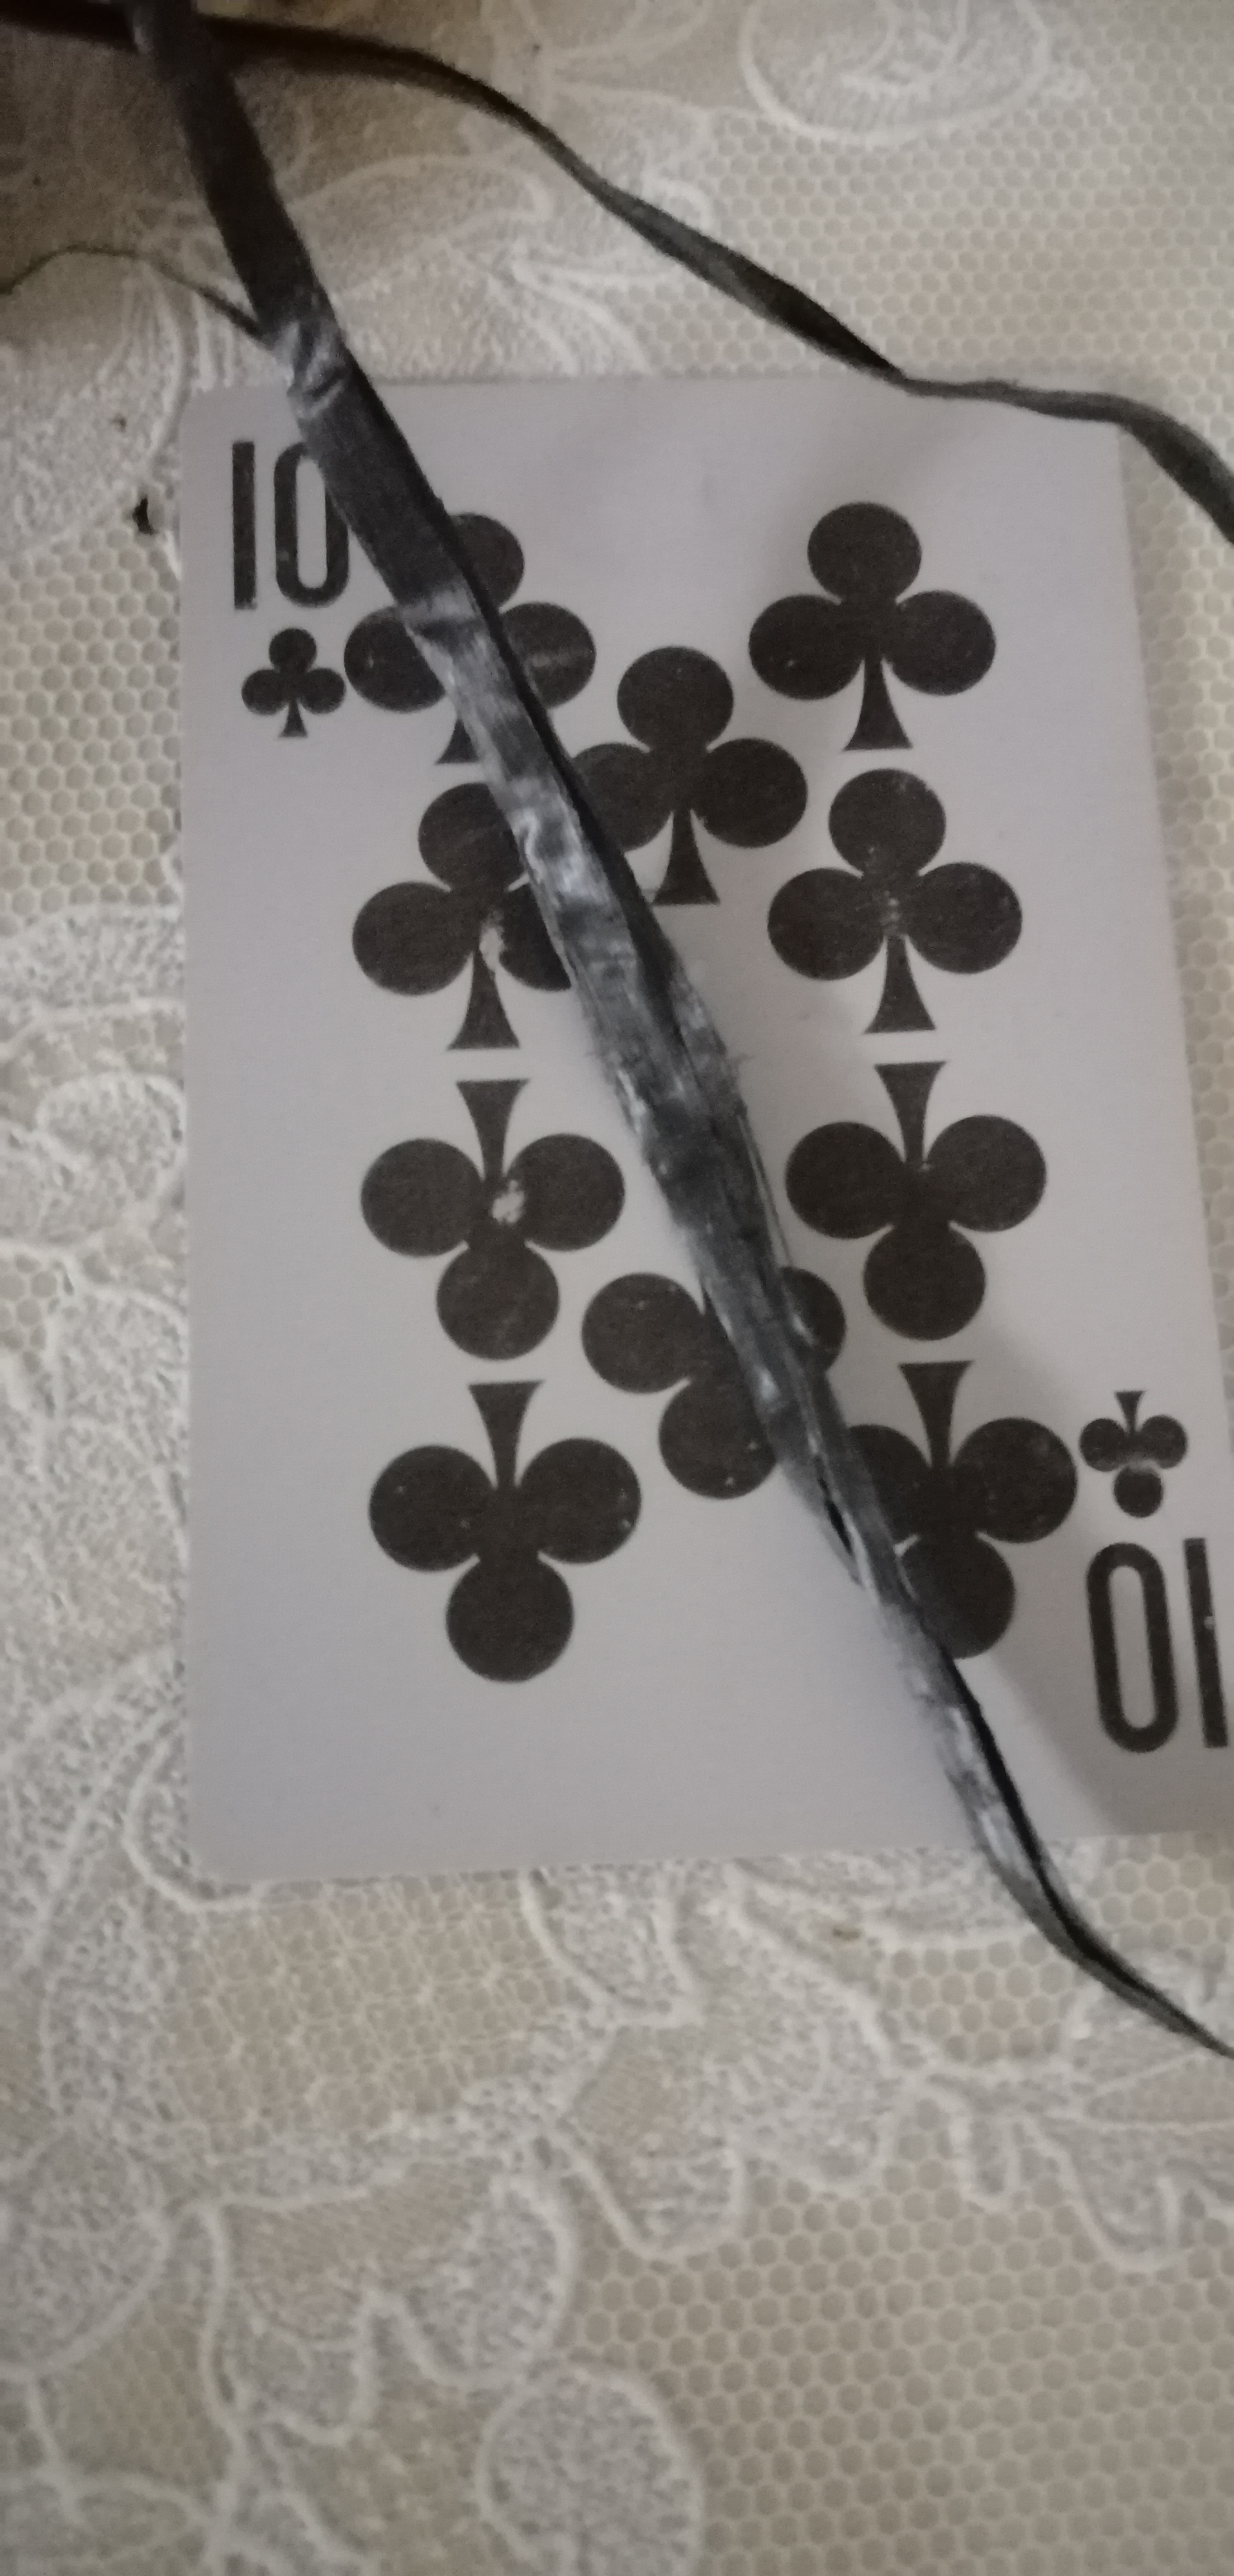ten: (154, 365, 1234, 1896)
